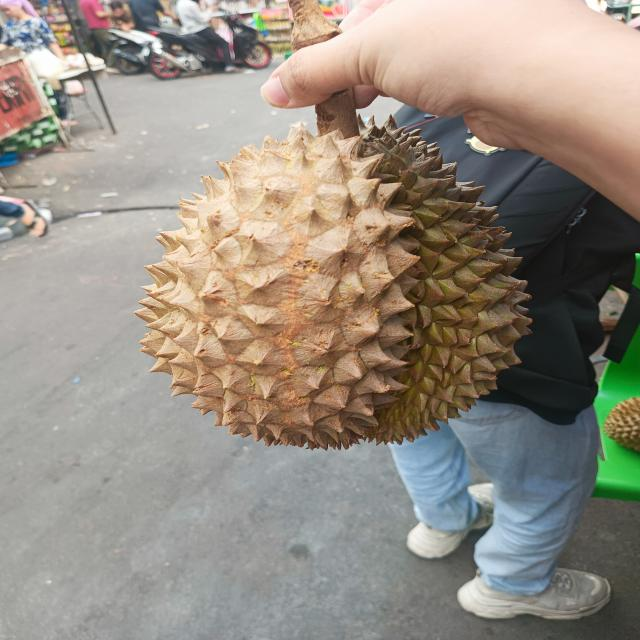mature: (130, 117, 532, 448)
